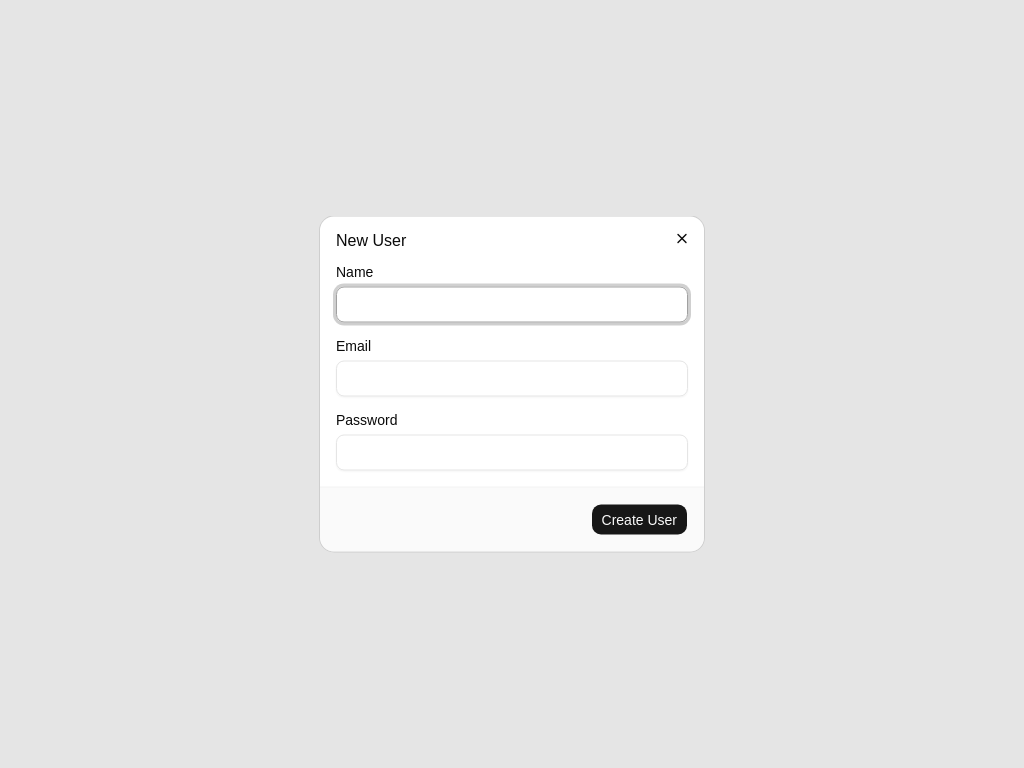
Scenario: CreateUserDialog › validation › shows error when email is invalid
The image size is (1024, 768).
Type "not-an-email" into the field labelled "Email". click: x=512, y=378
box: x1=336 y1=360 x2=688 y2=396
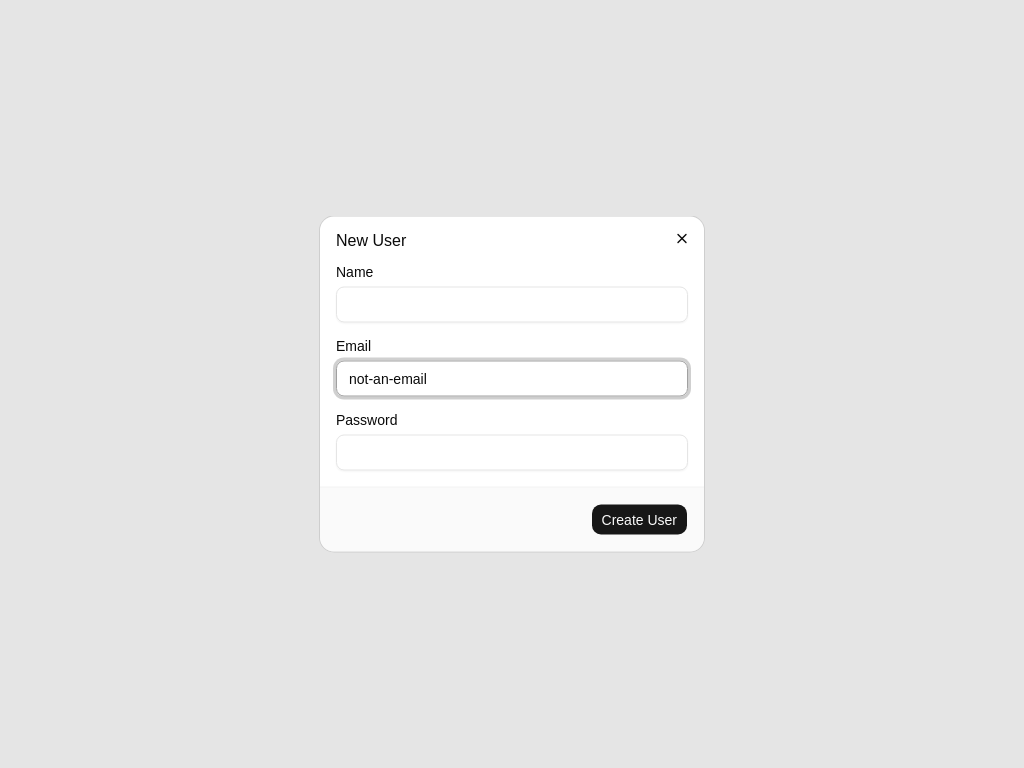
Click the button "Create User". click: x=639, y=520
box: x1=590 y1=504 x2=688 y2=536
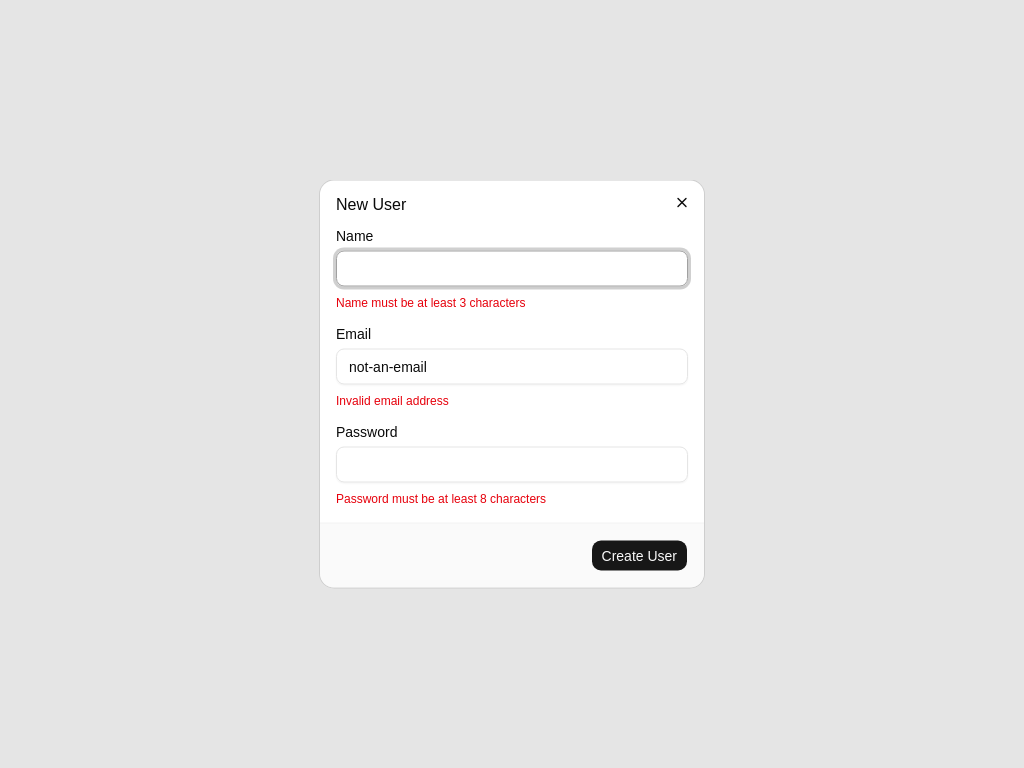
Now the text "Invalid email" is shown, box x1=336 y1=394 x2=449 y2=408
